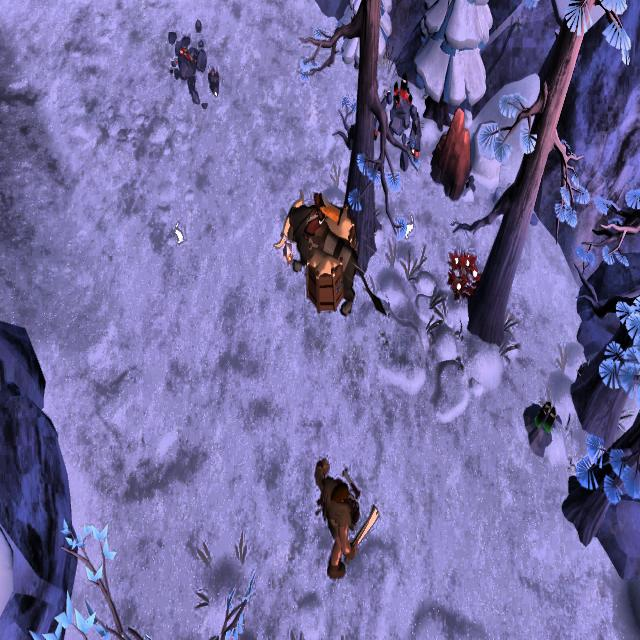enemy_factionKeeper: (314, 458, 374, 582)
fiber_t5: (444, 249, 482, 306)
ore_t3: (534, 394, 557, 439)
rock_t5: (431, 102, 474, 202)
